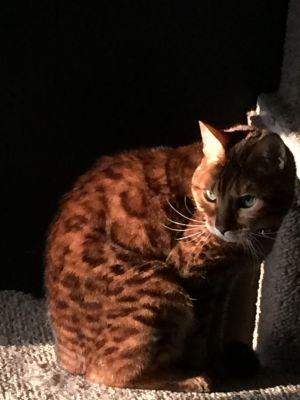bengal: (178, 110, 299, 256)
